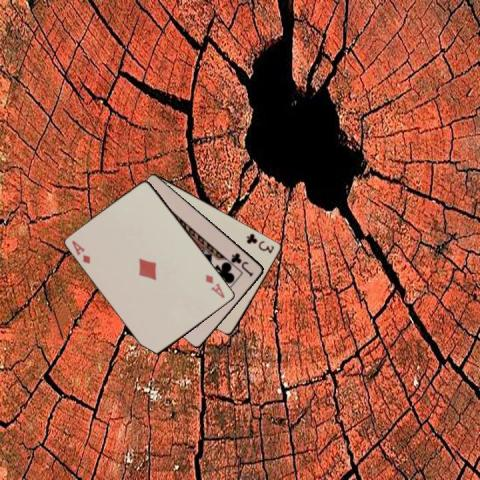3c: (244, 230, 276, 255)
Ad: (202, 271, 227, 300), (69, 237, 92, 266)
Jc: (229, 250, 255, 277)
